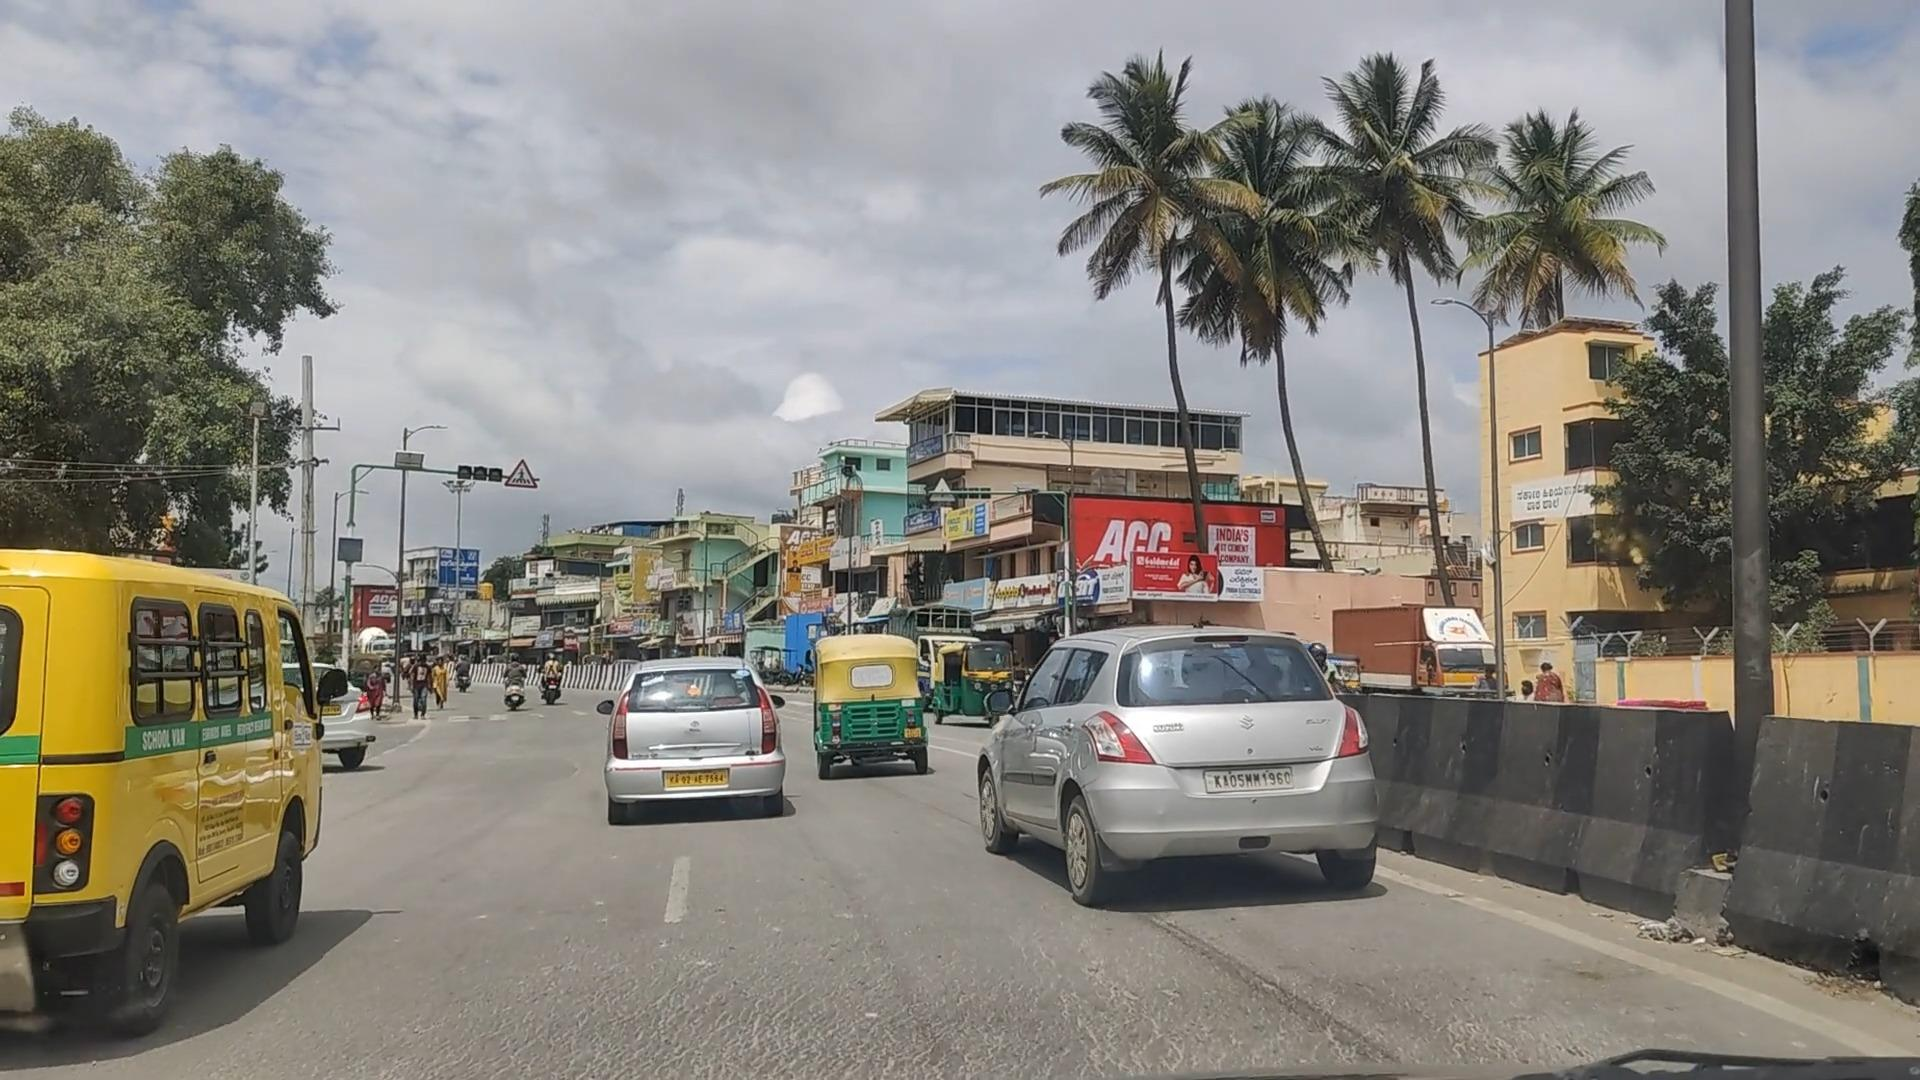LMV: (0, 463, 313, 1080), (994, 571, 1452, 948), (582, 605, 812, 843), (806, 608, 964, 807)
